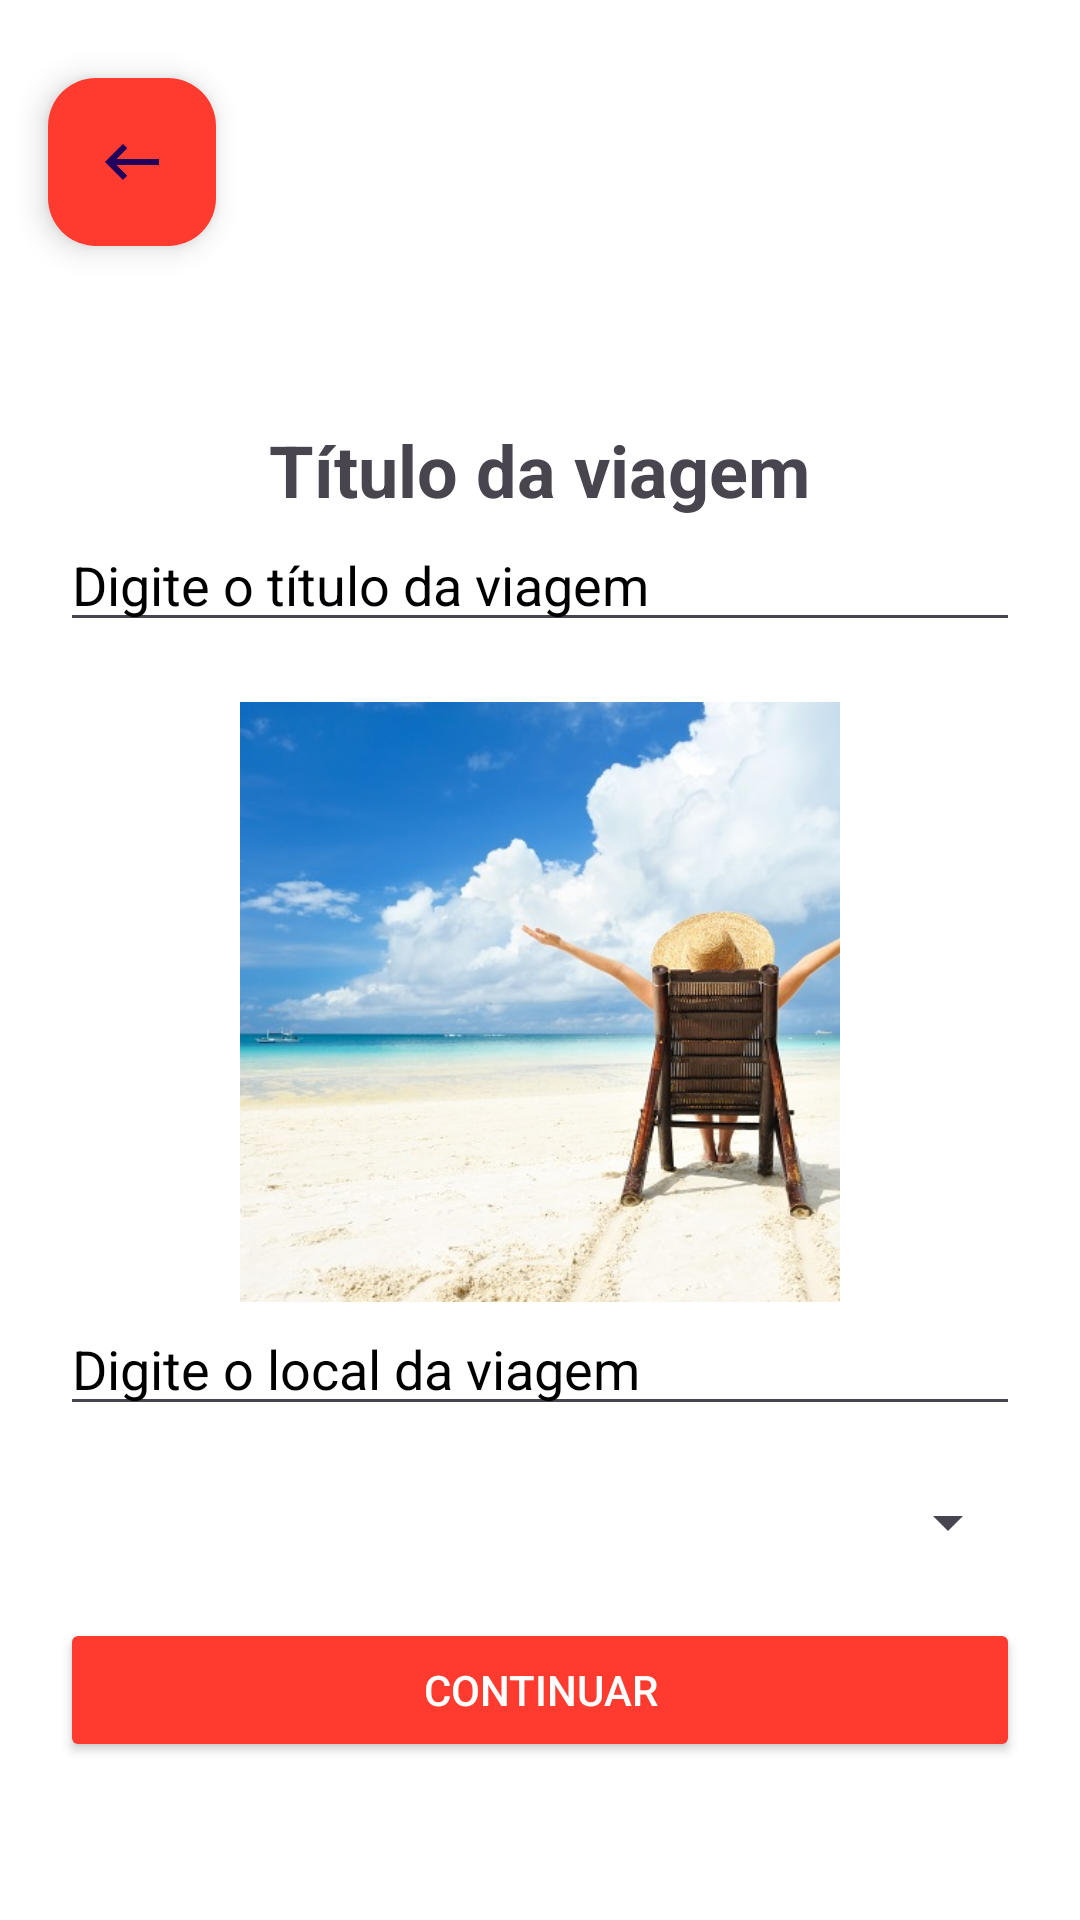

Where icons sit on this 1080 x 1920 app screen, as [left=x1, top=y1, right=x2, bottom=y2]:
back arrow: [left=48, top=78, right=216, bottom=246]
